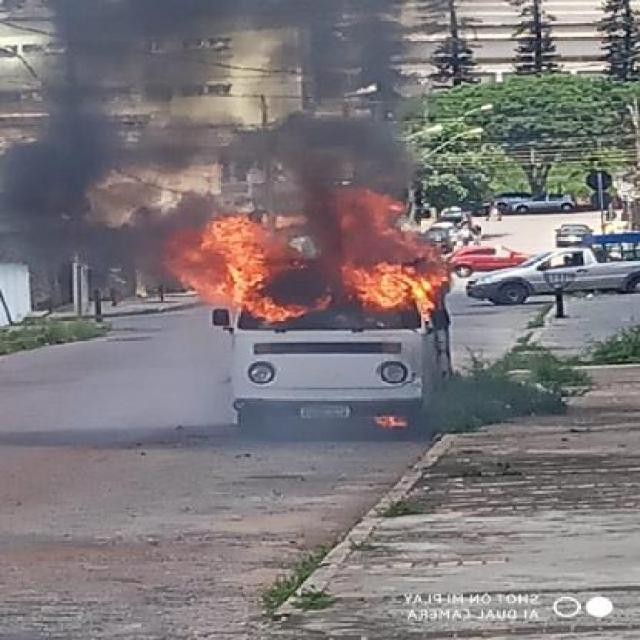Fire: (170, 187, 448, 324)
